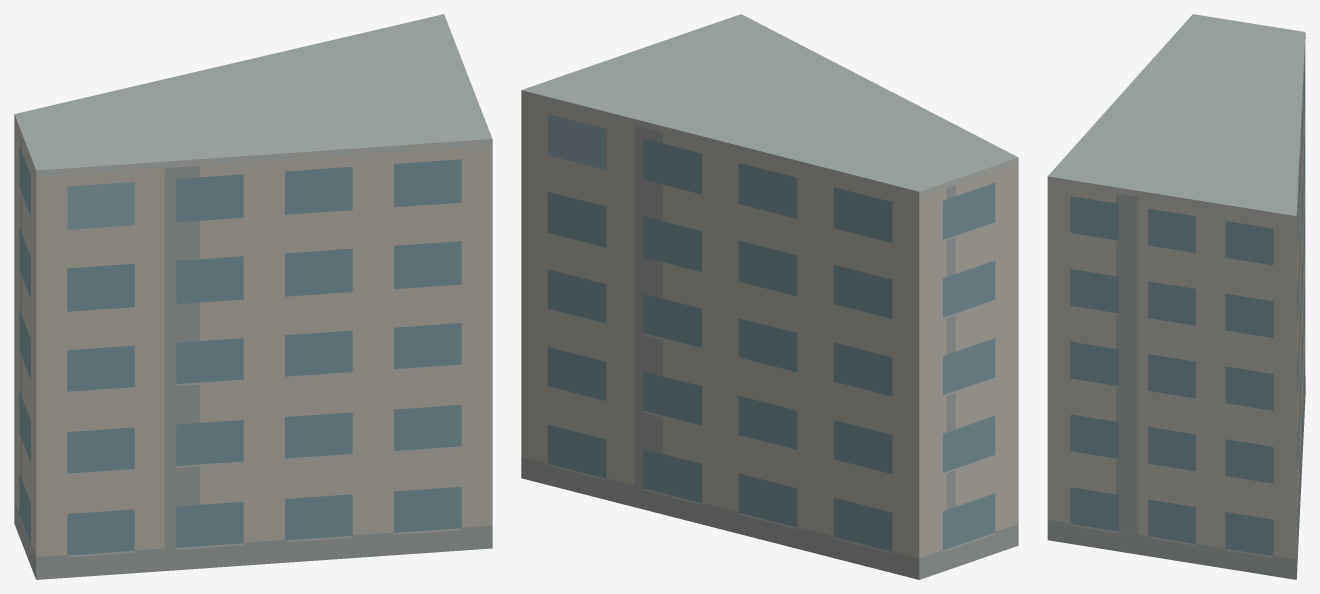
The model's file is residential-0f74b217-e241-4899-9df8-f8eae8d1cd3a.glb.
3 renders of one model, left to right at view 1: azimuth 30°, elevation 25°; view 2: azimuth 150°, elevation 25°; view 3: azimuth 270°, elevation 25°, orthographic. The views are drawn at different scales.
Parts seen in each view (by area): view 1: residential-0f74b217-e241-4899-9df8-f8eae8d1cd3a.tmp; view 2: residential-0f74b217-e241-4899-9df8-f8eae8d1cd3a.tmp; view 3: residential-0f74b217-e241-4899-9df8-f8eae8d1cd3a.tmp.
Boxes of the visible parts, x1,y1,x2,y2 form: residential-0f74b217-e241-4899-9df8-f8eae8d1cd3a.tmp: [14, 14, 492, 579]; residential-0f74b217-e241-4899-9df8-f8eae8d1cd3a.tmp: [521, 14, 1018, 579]; residential-0f74b217-e241-4899-9df8-f8eae8d1cd3a.tmp: [1047, 14, 1305, 579].
Bounding box in the file's own units: 18.18 × 15.25 × 9.81.
